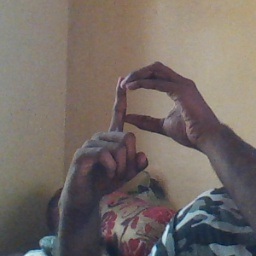P: (77, 61, 207, 183)
